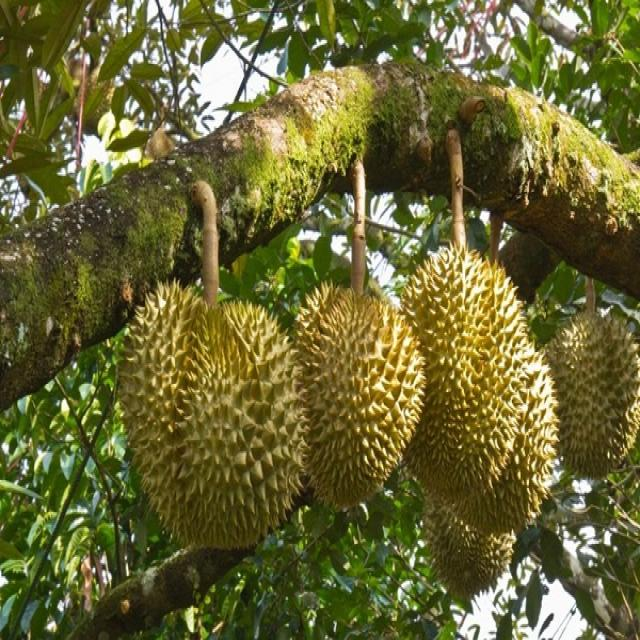Sau Rieng: (123, 306, 304, 548), (280, 267, 418, 523), (402, 244, 527, 488), (446, 333, 557, 519), (545, 307, 639, 472), (424, 508, 511, 598)
